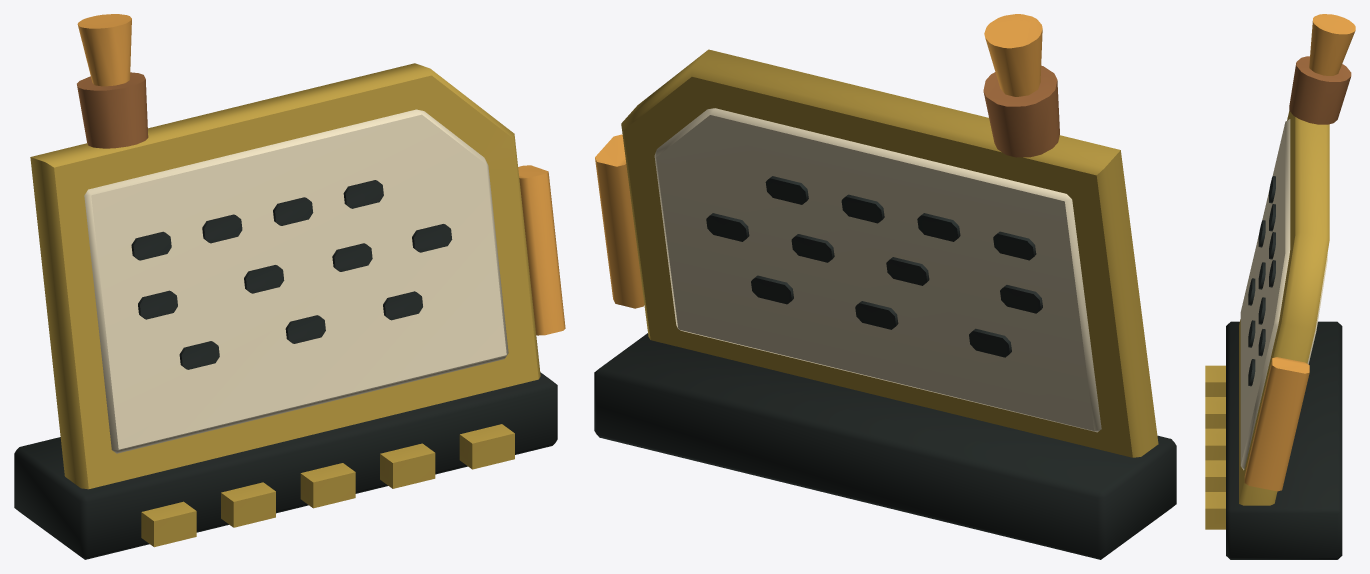
The model's file is cons_overclock_card.glb.
The picture shows the model from 3 angles, left to right: view 1: azimuth 30°, elevation 25°; view 2: azimuth 150°, elevation 25°; view 3: azimuth 270°, elevation 25°; orthographic projection. The views are drawn at different scales.
Visible parts, largest first — view 1: cons_overclock_card_mesh; view 2: cons_overclock_card_mesh; view 3: cons_overclock_card_mesh.
Part boxes in pixels (x1=…): cons_overclock_card_mesh: x1=14, y1=14, x2=565, y2=559; cons_overclock_card_mesh: x1=594, y1=14, x2=1176, y2=559; cons_overclock_card_mesh: x1=1205, y1=14, x2=1355, y2=559.
Bounding box in the file's own units: 0.562 × 0.5151 × 0.1812.
